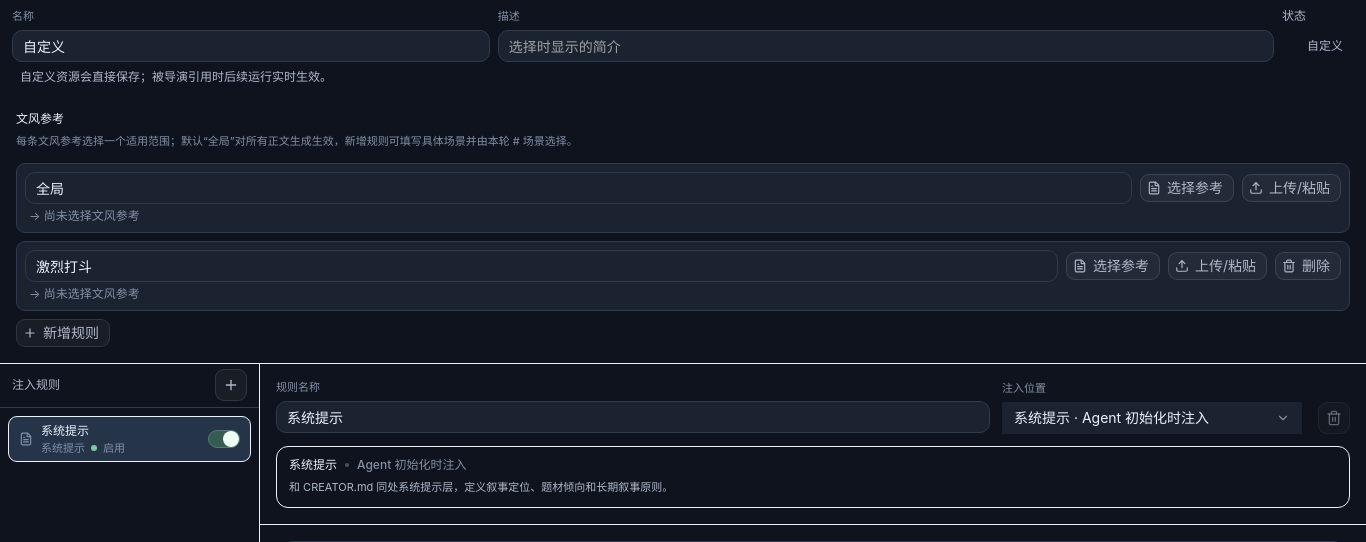
TellerEditor style contents › opens picker style reference editing without toggling selection
Click the 1st button "选择参考" at [1187, 188], box [1140,174,1234,202]
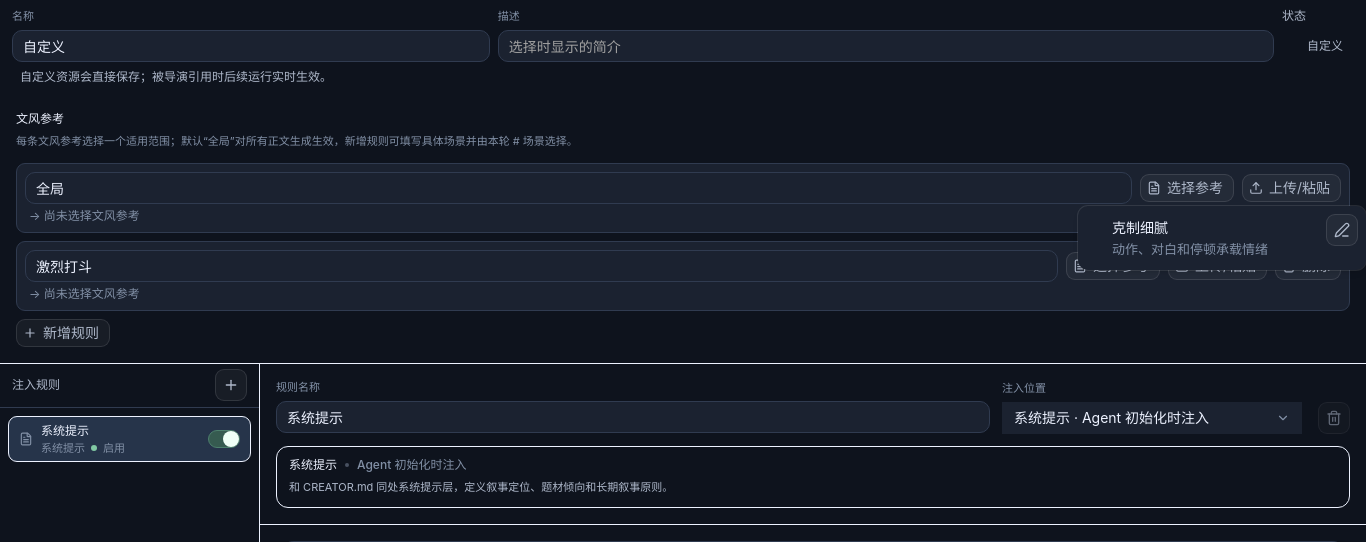
Click the button named "编辑 克制细腻" at [1342, 230], box [1326,214,1358,246]
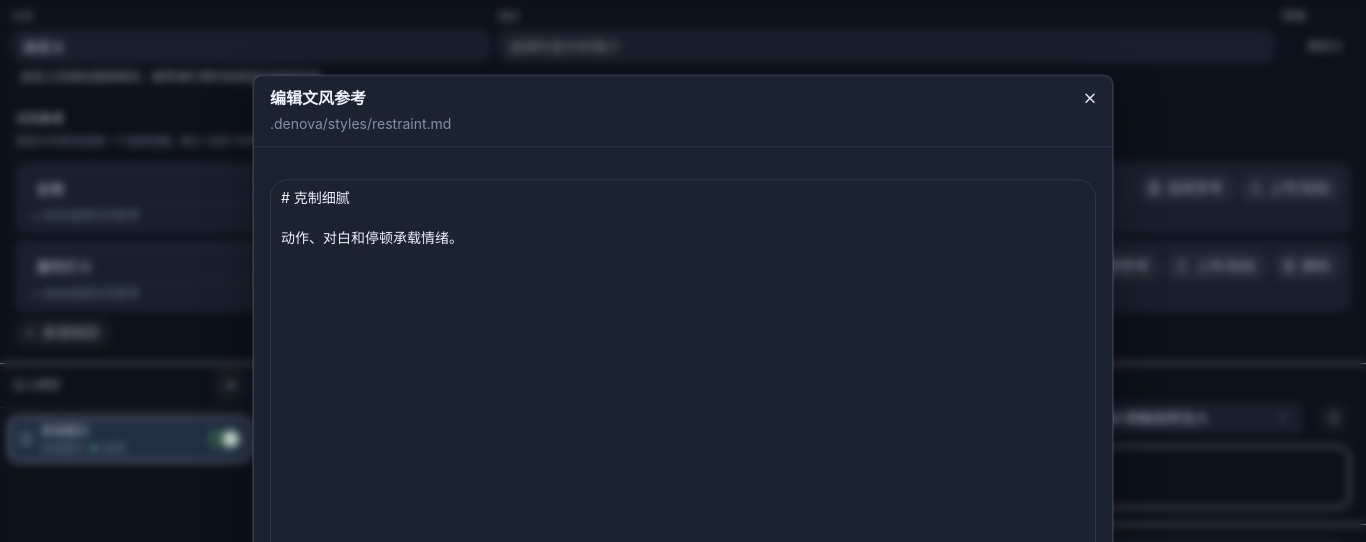
Now the heading "编辑文风参考" is shown, box [270,90,366,107]
